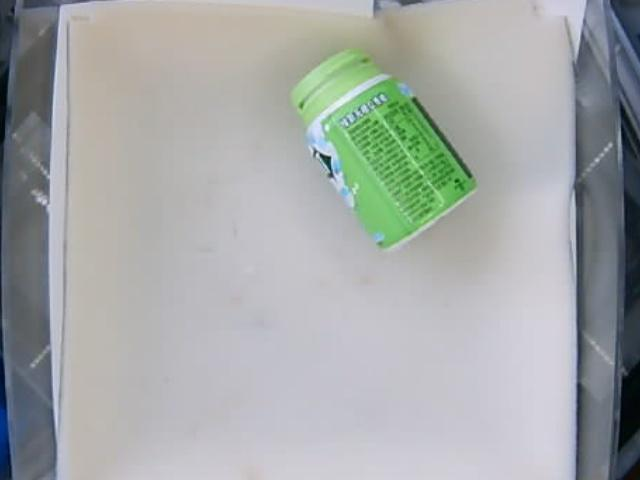Bottle: (287, 45, 481, 251)
